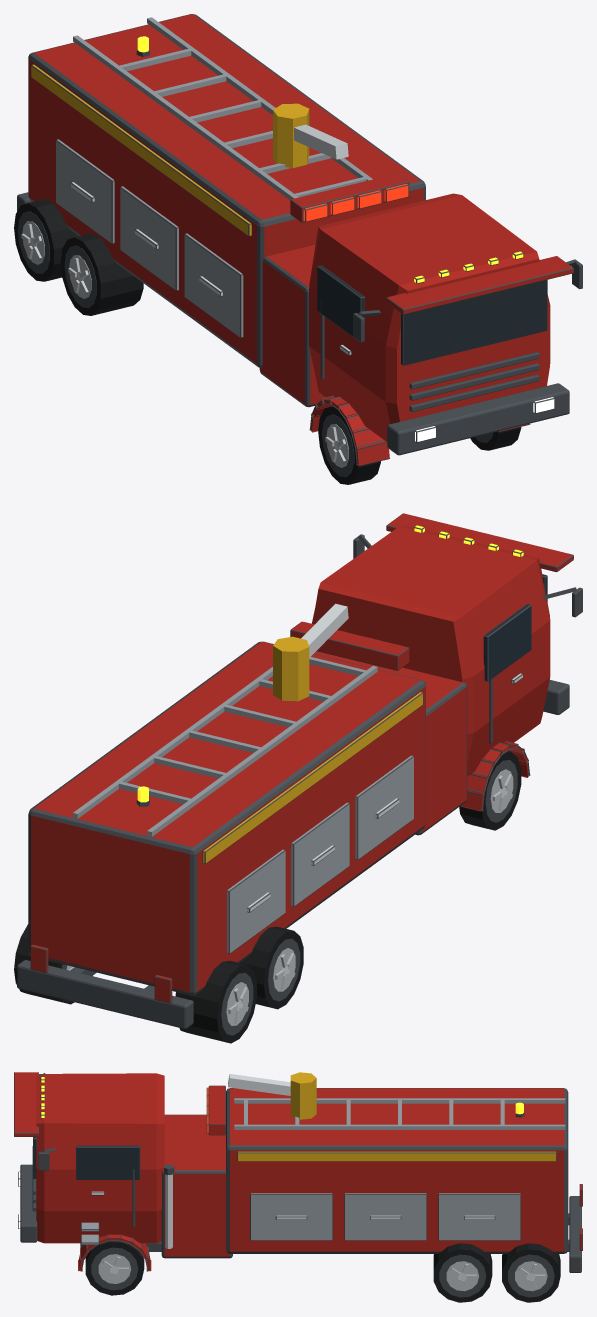
File: veh_fire_truck.glb
3 views of the same model, one above another, from view 1: azimuth 30°, elevation 25°; view 2: azimuth 150°, elevation 25°; view 3: azimuth 270°, elevation 25° (orthographic). The views are drawn at different scales.
Visible parts, largest first — view 1: veh_fire_truck; view 2: veh_fire_truck; view 3: veh_fire_truck.
Boxes of the visible parts, <box> form: veh_fire_truck: <box>14,14,582,484</box>; veh_fire_truck: <box>14,513,582,1043</box>; veh_fire_truck: <box>14,1072,582,1302</box>.
Bounding box in the file's own units: 3.3 × 3.69 × 9.97.
